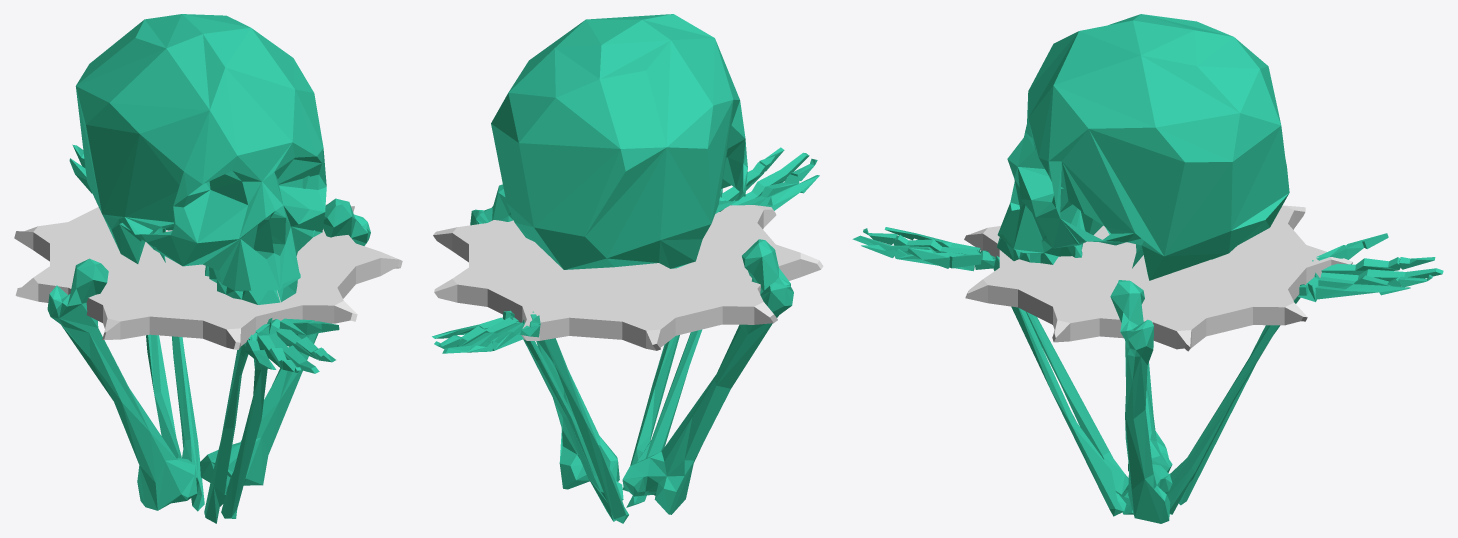
File: TowerRanged.FBX
3 views of the same model, side by side, from view 1: azimuth 30°, elevation 25°; view 2: azimuth 150°, elevation 25°; view 3: azimuth 270°, elevation 25° (orthographic).
Visible parts, largest first — view 1: skull, Cylinder001, Object002, Object003, Object004; view 2: skull, Cylinder001, Object002, Object004, Object003; view 3: skull, Cylinder001, Object003, Object004, Object002.
Part boxes in pixels (x1,y1,x2,y2): skull: [75, 14, 326, 304]; Cylinder001: [14, 204, 402, 349]; Object002: [47, 198, 370, 510]; Object003: [204, 318, 339, 523]; Object004: [69, 144, 204, 511]; skull: [491, 14, 747, 269]; Cylinder001: [433, 205, 823, 350]; Object002: [470, 184, 793, 514]; Object004: [432, 310, 628, 523]; Object003: [622, 147, 819, 507]; skull: [997, 14, 1289, 280]; Cylinder001: [964, 205, 1352, 351]; Object003: [852, 227, 1133, 516]; Object004: [1166, 233, 1443, 514]; Object002: [1110, 280, 1172, 523].
Bounding box in the file's own units: 1438 × 1963 × 2148.
